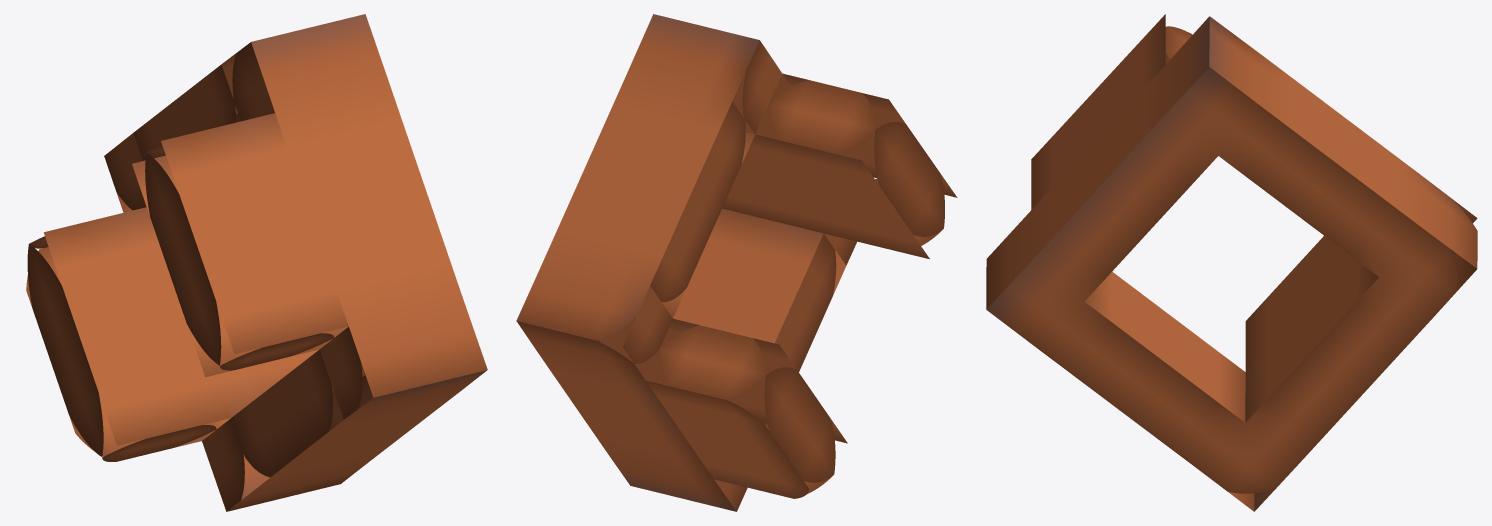
The model's file is handle.obj.
The picture shows the model from 3 angles, left to right: view 1: azimuth 30°, elevation 25°; view 2: azimuth 150°, elevation 25°; view 3: azimuth 270°, elevation 25°; orthographic projection. The views are drawn at different scales.
Visible parts, largest first — view 1: handle; view 2: handle; view 3: handle.
Boxes of the visible parts, <box> form: handle: <box>26,14,487,511</box>; handle: <box>516,14,957,511</box>; handle: <box>986,14,1477,511</box>.
Bounding box in the file's own units: 0.2 × 0.408 × 0.4081.
